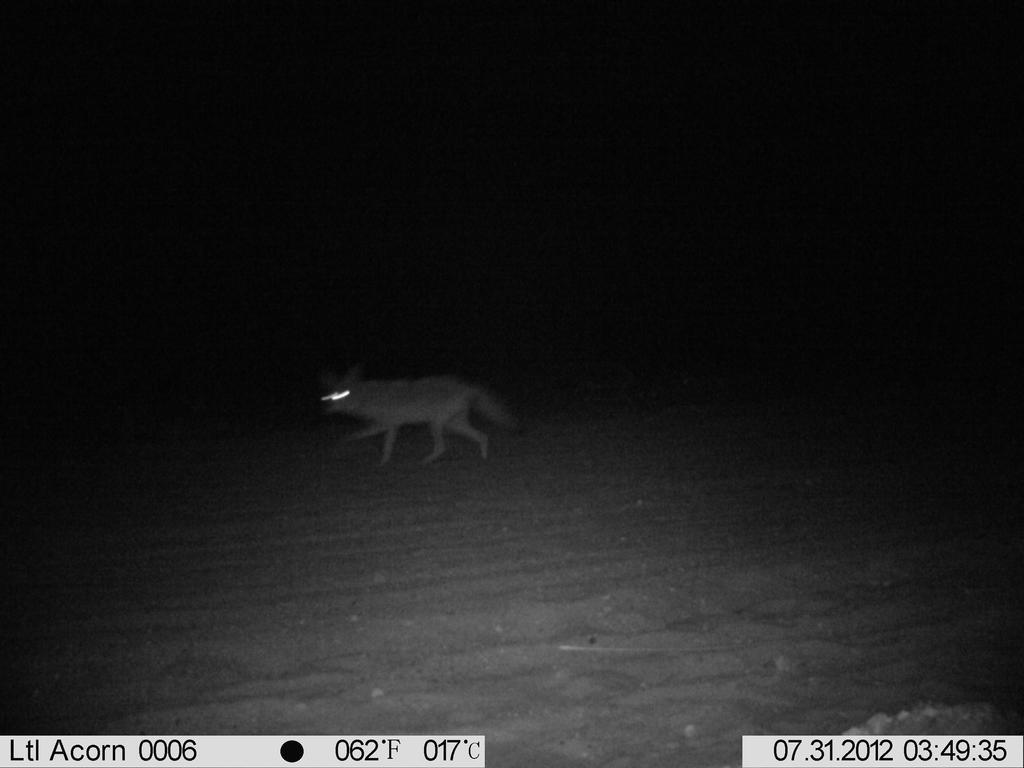coyote: (309, 354, 515, 469)
